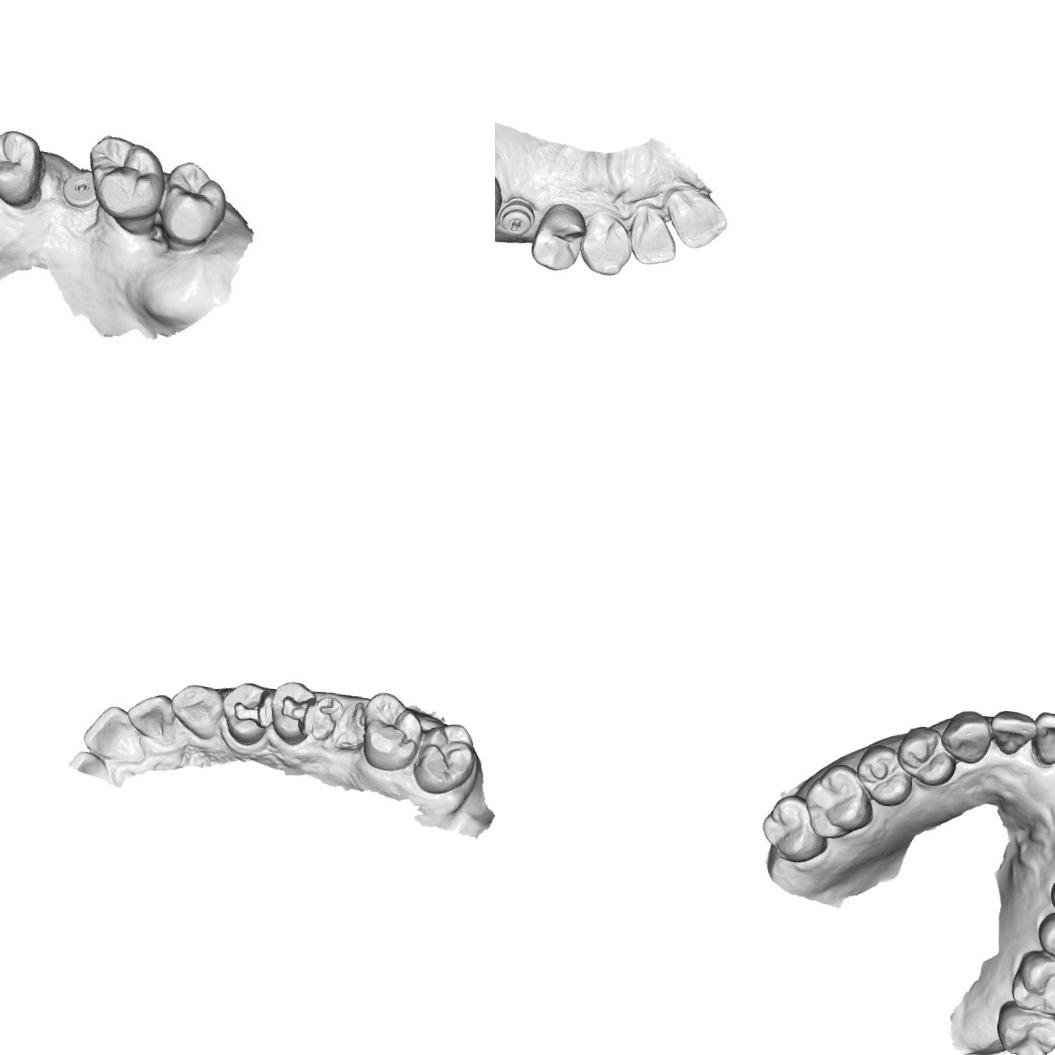canine: (576, 206, 635, 278), (166, 681, 226, 741), (937, 706, 994, 765)
implant: (59, 166, 98, 209)
implant_minus: (496, 195, 536, 238)
incisor: (662, 184, 730, 252), (626, 200, 681, 268), (80, 702, 141, 762), (124, 690, 178, 742), (986, 708, 1038, 758), (1028, 708, 1055, 768)
inlay: (274, 689, 318, 738), (229, 686, 274, 732)
molar: (82, 131, 169, 230), (800, 760, 878, 842), (154, 157, 228, 243), (358, 688, 426, 774), (758, 789, 832, 866), (410, 718, 478, 797), (992, 996, 1055, 1055), (1008, 947, 1055, 1017)
premolar: (527, 198, 589, 274), (852, 742, 915, 809), (894, 724, 959, 788), (0, 127, 45, 207), (1034, 908, 1055, 969)
